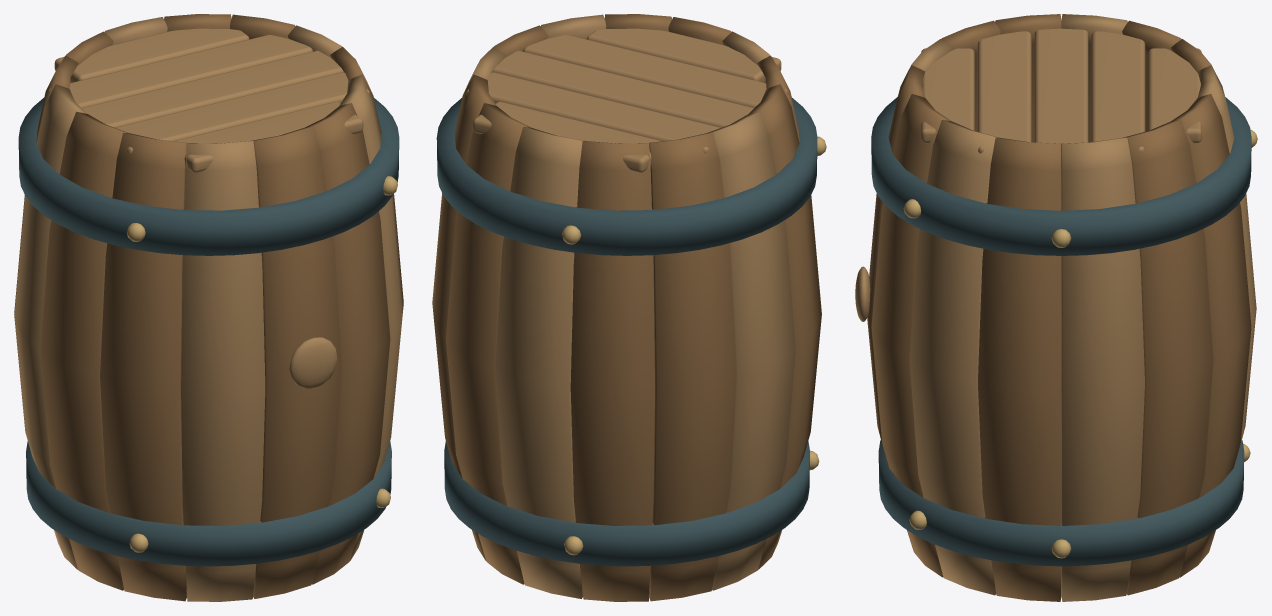
File: oak_barrel_atelier.glb
3 views of the same model, side by side, from view 1: azimuth 30°, elevation 25°; view 2: azimuth 150°, elevation 25°; view 3: azimuth 270°, elevation 25° (orthographic).
Visible parts, largest first — view 1: oak_barrel_atelier__TaggedPainted_Barrel_Matte, oak_barrel_atelier__Painted_Barrel_Metal; view 2: oak_barrel_atelier__TaggedPainted_Barrel_Matte, oak_barrel_atelier__Painted_Barrel_Metal; view 3: oak_barrel_atelier__TaggedPainted_Barrel_Matte, oak_barrel_atelier__Painted_Barrel_Metal.
Part boxes in pixels (box(x1,y1,x2,y2)): oak_barrel_atelier__TaggedPainted_Barrel_Matte: box(14, 14, 403, 601); oak_barrel_atelier__Painted_Barrel_Metal: box(18, 97, 399, 566); oak_barrel_atelier__TaggedPainted_Barrel_Matte: box(432, 14, 821, 601); oak_barrel_atelier__Painted_Barrel_Metal: box(436, 98, 826, 566); oak_barrel_atelier__TaggedPainted_Barrel_Matte: box(855, 14, 1256, 601); oak_barrel_atelier__Painted_Barrel_Metal: box(871, 97, 1257, 566).
Bounding box in the file's own units: 0.6412 × 0.82 × 0.6519.
